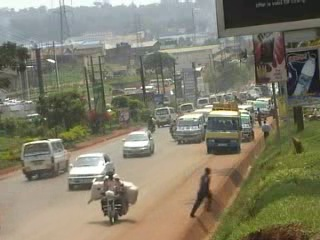Car: (66, 149, 118, 193), (121, 129, 156, 160), (201, 102, 216, 112)
Motorcycle: (86, 171, 139, 226), (167, 119, 179, 140), (147, 114, 159, 134)
